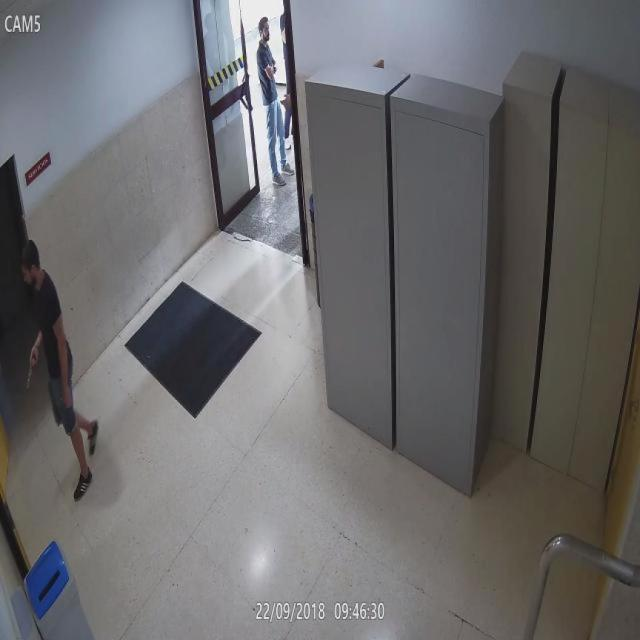pistol: (26, 348, 40, 389)
